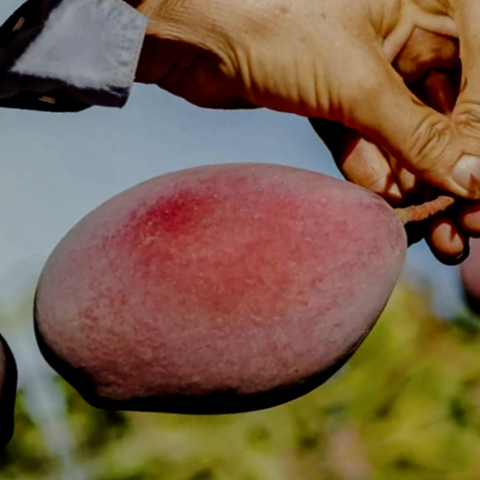mango: (0, 76, 473, 480)
